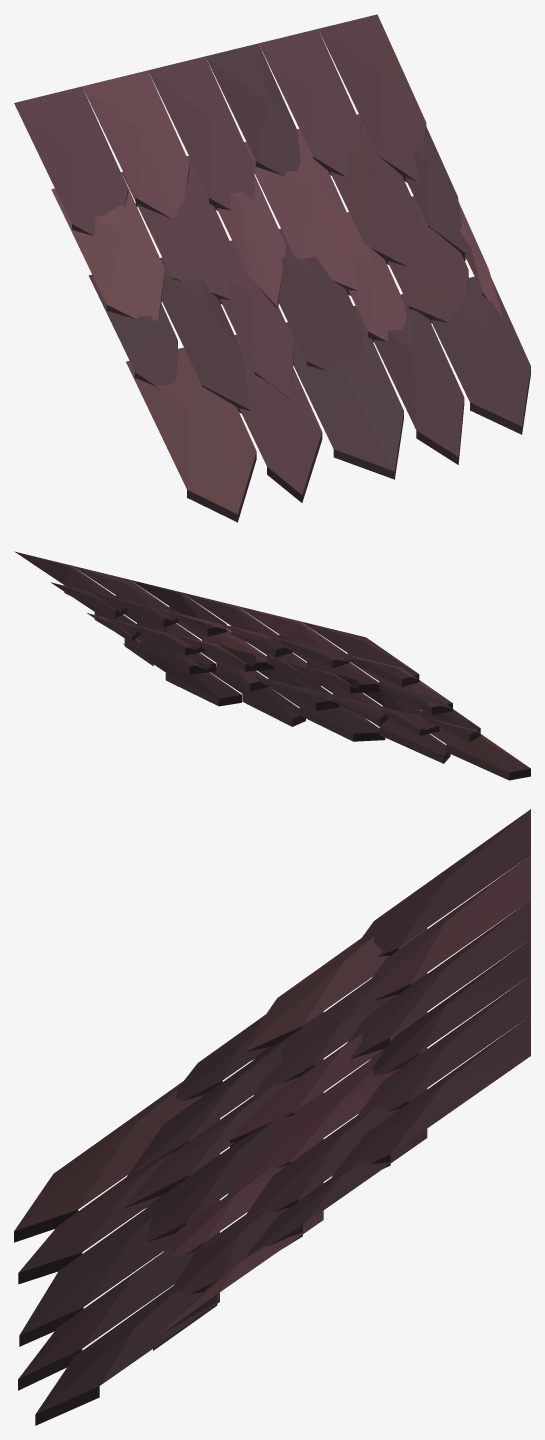
Rendered from cedar_course_0.glb.
The picture shows the model from 3 angles, top to bottom: view 1: azimuth 30°, elevation 25°; view 2: azimuth 150°, elevation 25°; view 3: azimuth 270°, elevation 25°; orthographic projection. The views are drawn at different scales.
Visible parts, largest first — view 1: cedar_course_0; view 2: cedar_course_0; view 3: cedar_course_0.
Part boxes in pixels (box(x1,y1,x2,y2)): cedar_course_0: box(14, 14, 530, 522); cedar_course_0: box(14, 551, 530, 780); cedar_course_0: box(14, 809, 530, 1425).
Size of the model in its own units: 2 by 1.54 by 1.77.
